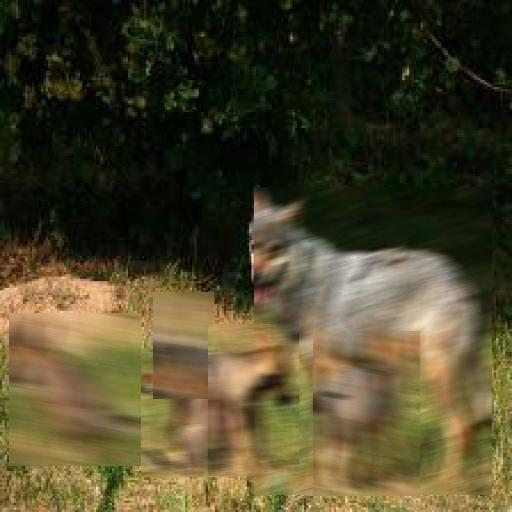wolf: (254, 187, 492, 495), (9, 313, 141, 466), (313, 331, 420, 496), (208, 324, 299, 476), (142, 350, 238, 478), (153, 292, 214, 399)
